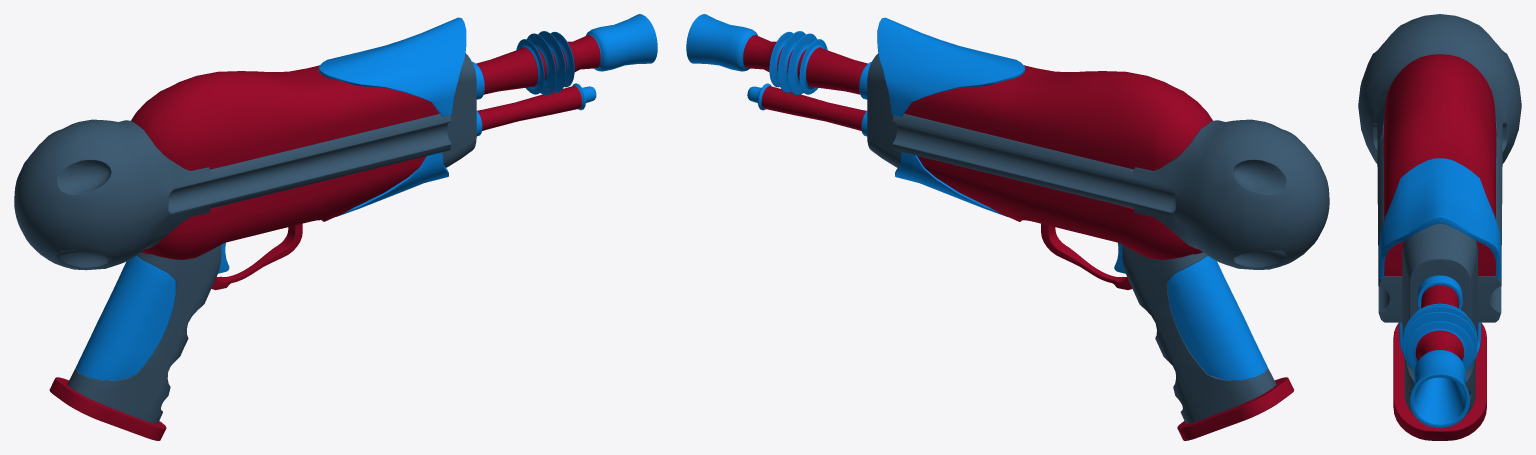
The model's file is ToyGun_02.fbx.
3 renders of one model, left to right at view 1: azimuth 30°, elevation 25°; view 2: azimuth 150°, elevation 25°; view 3: azimuth 270°, elevation 25°, orthographic. The views are drawn at different scales.
Visible parts, largest first — view 1: ToyGun; view 2: ToyGun; view 3: ToyGun.
Boxes of the visible parts, box(x1,y1,x2,y2) form: ToyGun: box(14, 14, 657, 440); ToyGun: box(686, 14, 1329, 440); ToyGun: box(1358, 14, 1521, 440).
Size of the model in its own units: 56.83 by 29.83 by 10.86.
